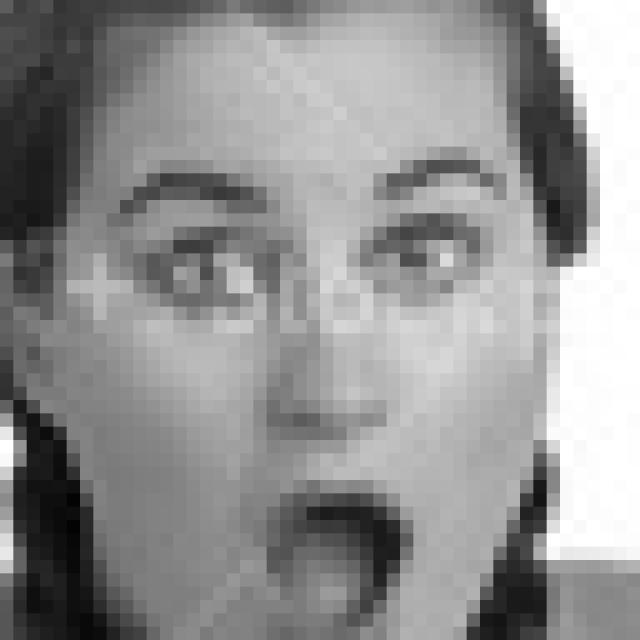surprise: (111, 157, 523, 640)
